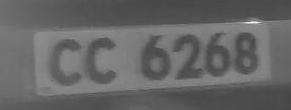2: (169, 28, 205, 85)
6: (134, 30, 173, 86), (201, 27, 236, 82)
8: (230, 27, 263, 81)
C: (41, 36, 89, 91), (81, 32, 124, 90)
